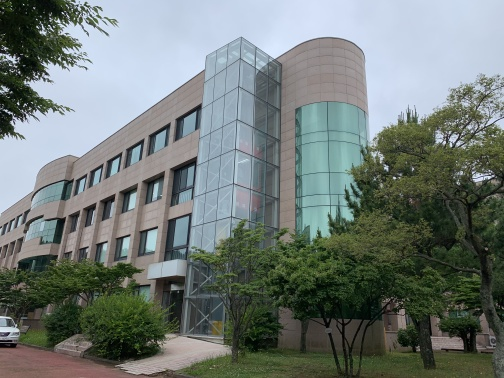Joint Experimental Labs: (38, 99, 271, 287), (189, 27, 374, 248)
